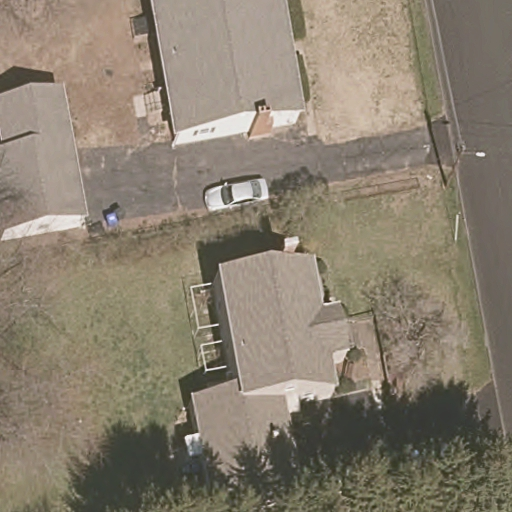DT: (444, 142, 485, 189)
